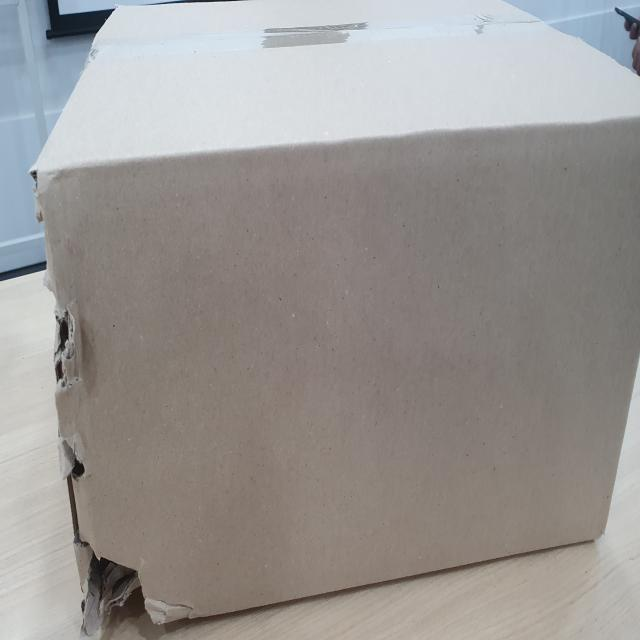hole: (71, 507, 184, 633), (45, 309, 81, 393), (62, 431, 90, 487)
